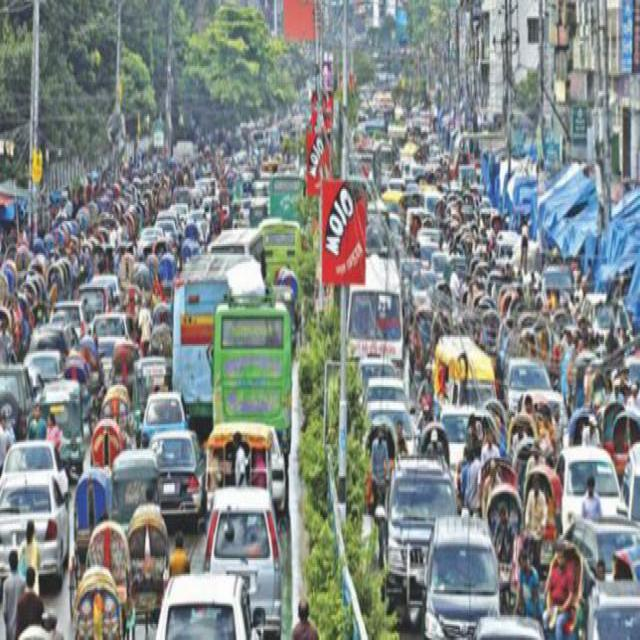vehicle: (171, 250, 253, 421), (214, 292, 291, 454), (381, 450, 457, 607), (205, 482, 281, 636), (426, 512, 501, 635), (1, 468, 70, 579), (347, 250, 405, 364), (431, 333, 497, 420), (558, 448, 629, 524), (128, 502, 169, 616), (84, 516, 132, 602), (365, 414, 398, 528), (521, 462, 563, 549), (74, 564, 123, 637), (487, 483, 522, 585), (43, 379, 84, 466), (542, 545, 581, 630), (591, 579, 640, 636), (140, 390, 188, 445), (261, 219, 301, 278), (365, 401, 415, 448), (1, 360, 35, 428), (480, 456, 518, 509), (269, 171, 304, 219), (93, 416, 124, 466), (613, 409, 640, 465), (209, 225, 262, 253), (4, 440, 61, 466), (508, 408, 539, 455), (95, 310, 132, 346), (136, 356, 168, 397), (102, 383, 129, 427), (79, 281, 118, 311), (48, 301, 87, 330), (571, 410, 601, 442), (482, 308, 500, 349), (159, 256, 174, 293), (134, 263, 150, 297), (154, 210, 180, 229), (48, 261, 62, 286)
